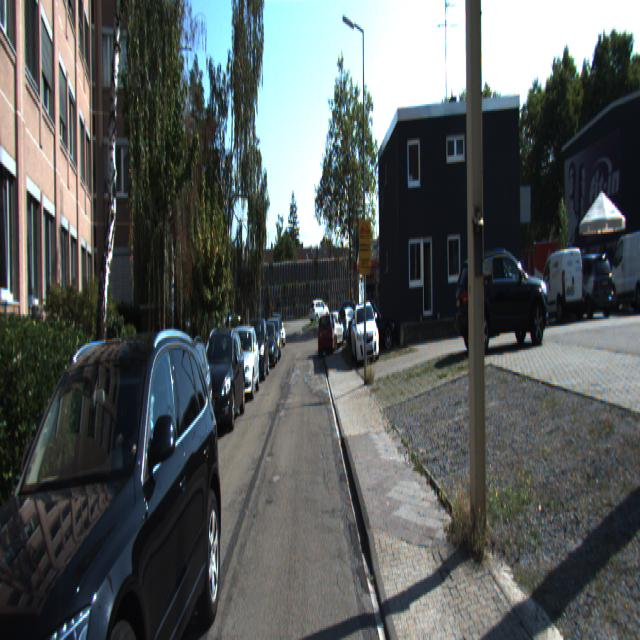Car: (0, 312, 232, 638), (128, 320, 216, 506), (453, 233, 552, 351), (624, 171, 640, 638), (191, 319, 246, 437), (560, 248, 616, 318), (536, 244, 586, 321), (224, 317, 260, 396), (609, 223, 640, 311), (348, 296, 395, 351), (243, 314, 270, 381), (351, 300, 379, 364), (317, 310, 335, 359), (308, 297, 330, 324)
